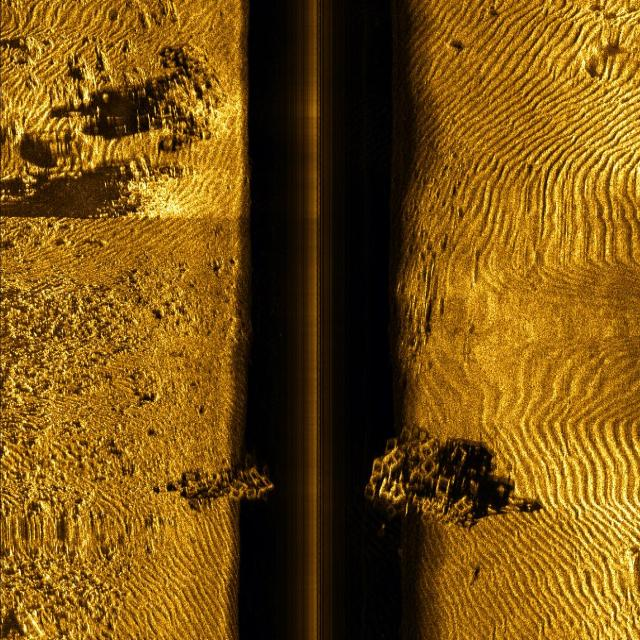artificial reef: (355, 421, 485, 533), (178, 450, 280, 506)
